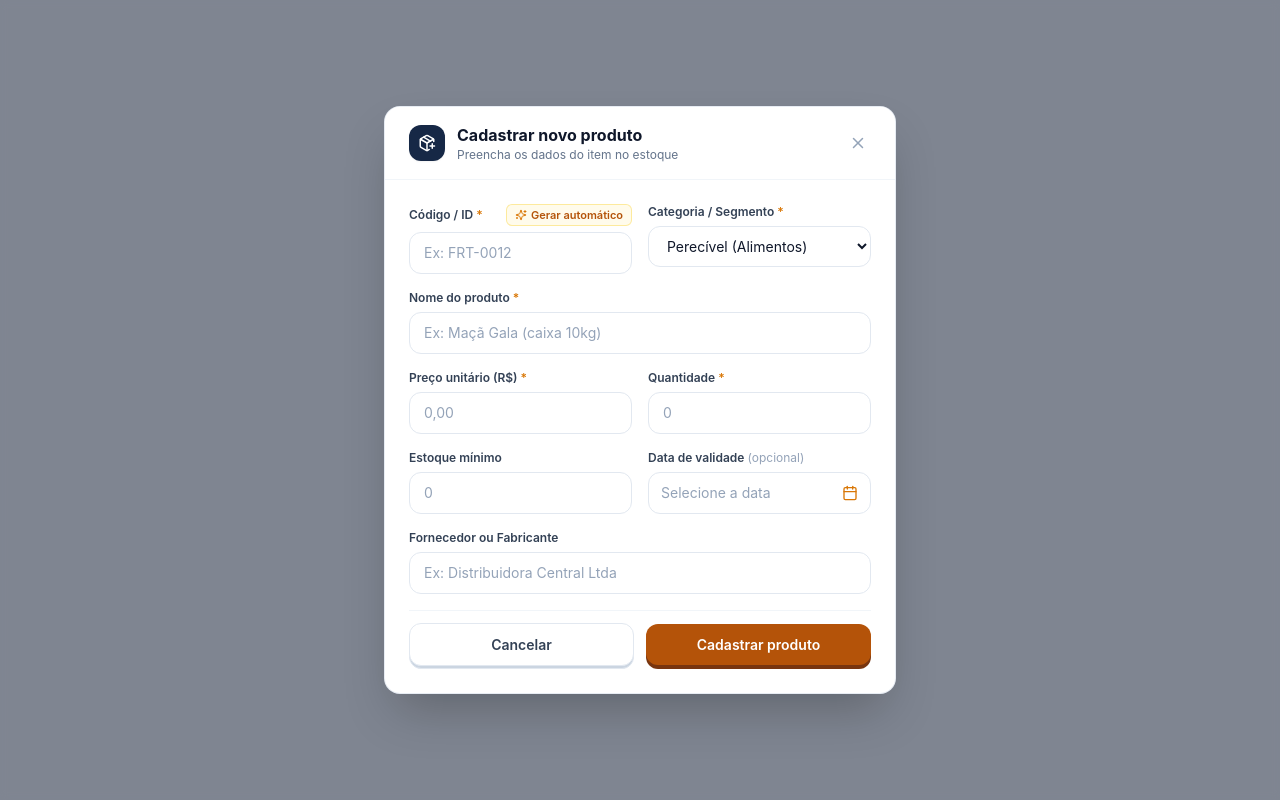
Test: ProductModal › geração automática de código / ID › preenche o input ao clicar no botão 'Gerar automático' no modal
The width and height of the screenshot is (1280, 800).
Step 1. Click the button "Gerar automático" → (569, 215), box [506,204,632,226]
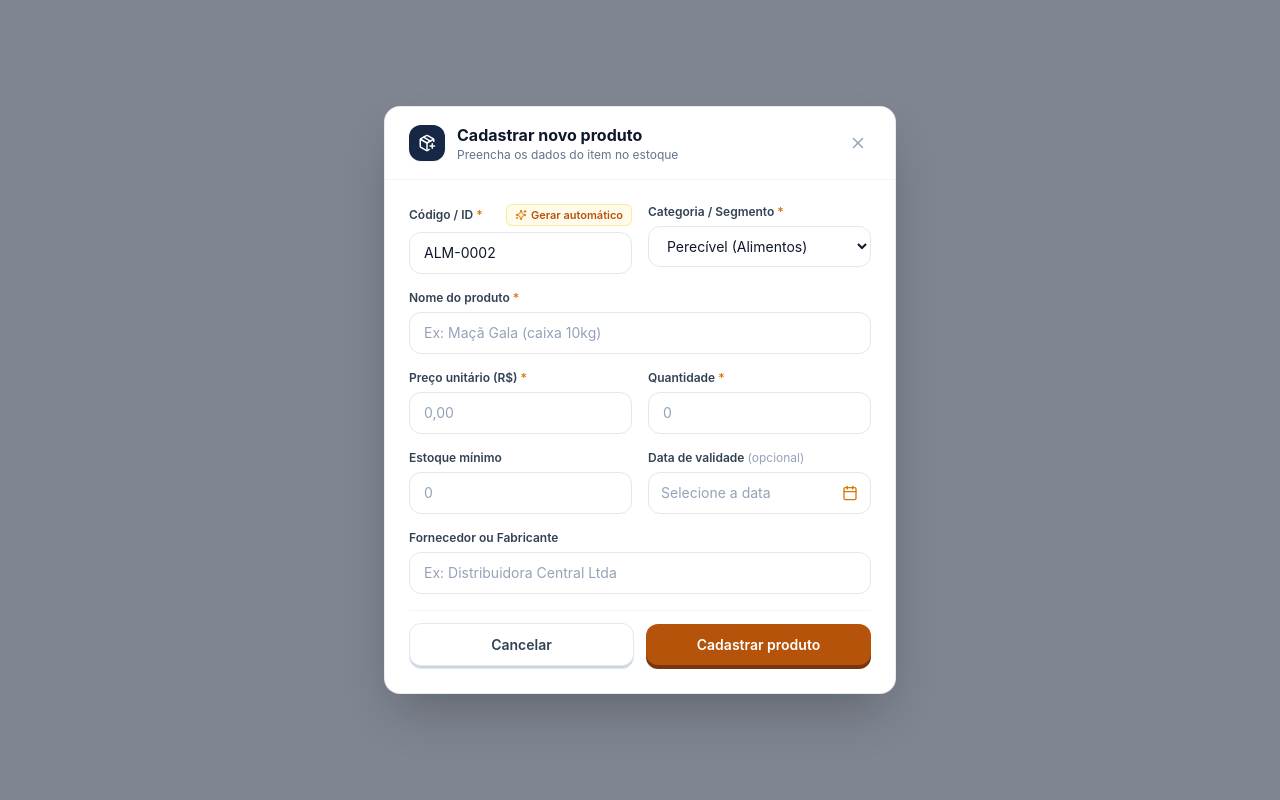
Now the field showing "ALM-0002" is shown, box [409,232,632,274]
